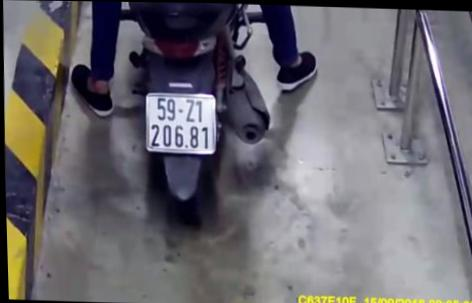LP: (144, 91, 215, 153)
